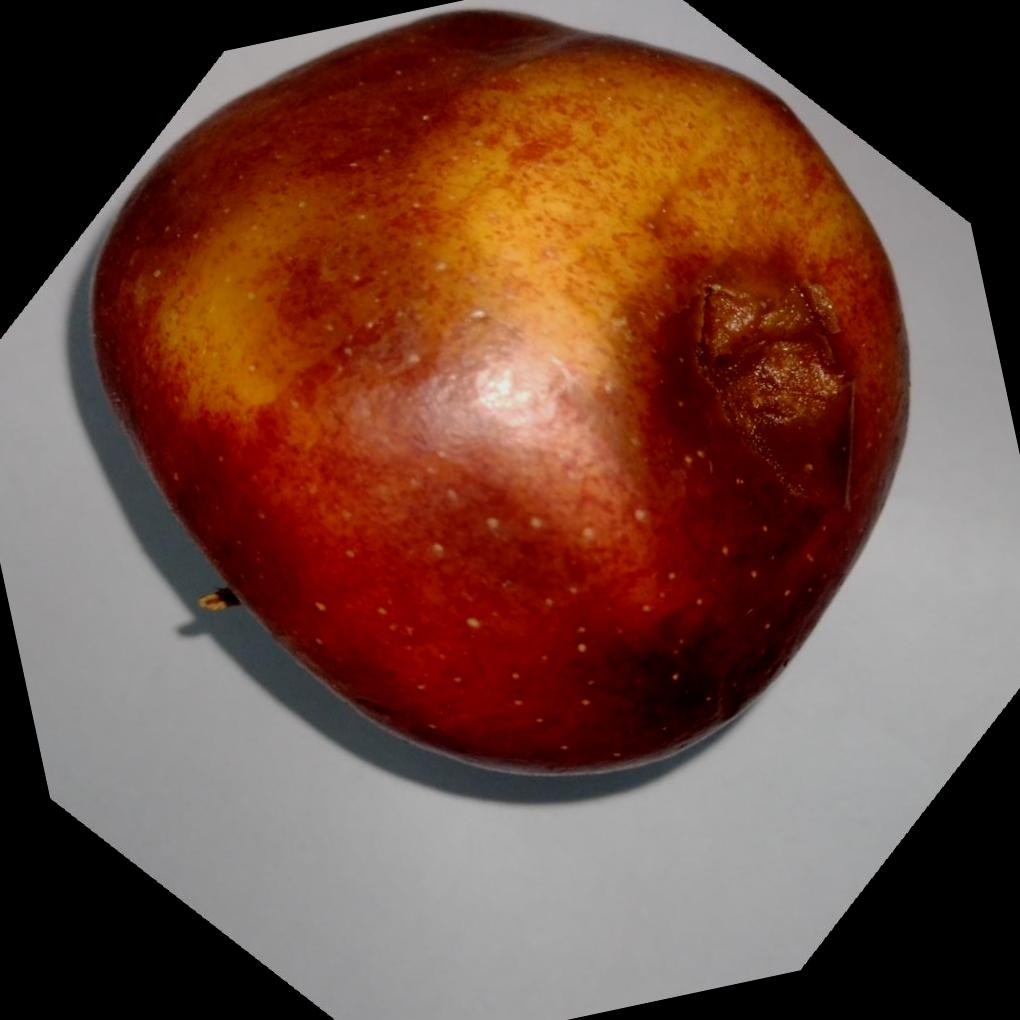FreshOrange: (88, 6, 916, 788)
